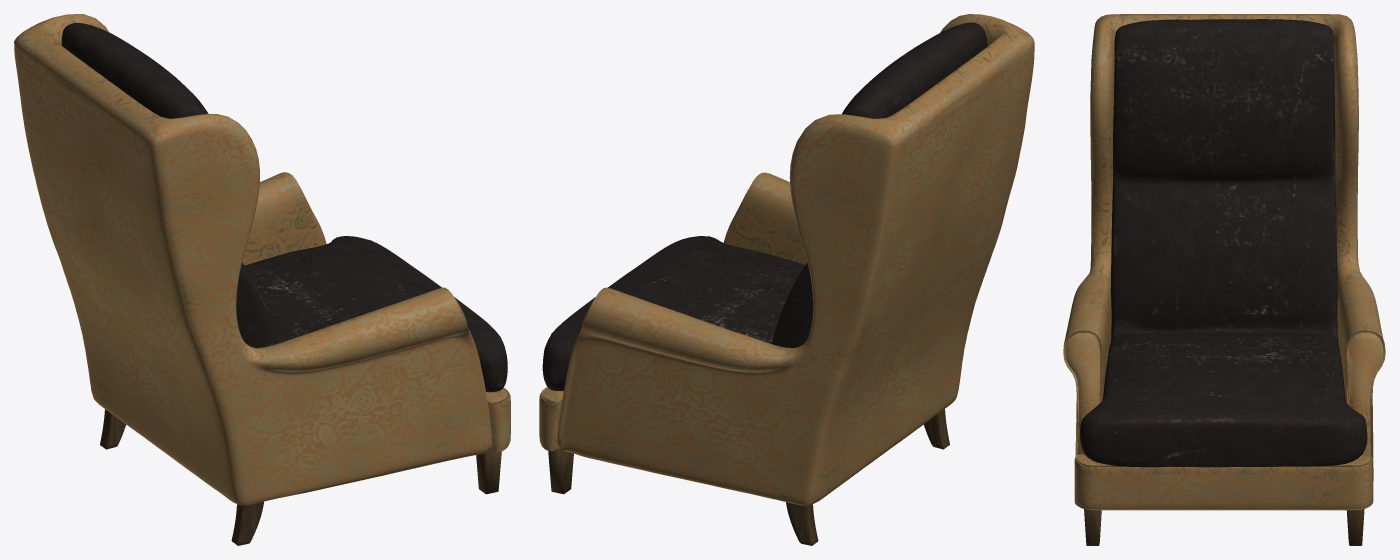
File: ArmChair53_fbx.fbx
The picture shows the model from 3 angles, left to right: view 1: azimuth 30°, elevation 25°; view 2: azimuth 150°, elevation 25°; view 3: azimuth 270°, elevation 25°; orthographic projection. The views are drawn at different scales.
Parts seen in each view (by area): view 1: Body, Cushion, Legs, Body_2; view 2: Body, Cushion, Legs, Body_2; view 3: Cushion, Body, Body_2, Legs.
Part boxes in pixels (left/top/right/bottom): Body: left=14, top=14, right=492, bottom=505; Cushion: left=61, top=23, right=507, bottom=392; Legs: left=100, top=409, right=501, bottom=545; Body_2: left=486, top=387, right=510, bottom=451; Body: left=557, top=14, right=1034, bottom=505; Cushion: left=542, top=22, right=987, bottom=390; Legs: left=548, top=409, right=949, bottom=545; Body_2: left=539, top=386, right=563, bottom=451; Cushion: left=1080, top=19, right=1367, bottom=467; Body: left=1063, top=14, right=1385, bottom=480; Body_2: left=1074, top=454, right=1373, bottom=510; Legs: left=1084, top=509, right=1364, bottom=545.
Bounding box in the file's own units: 974 × 1166 × 853.
